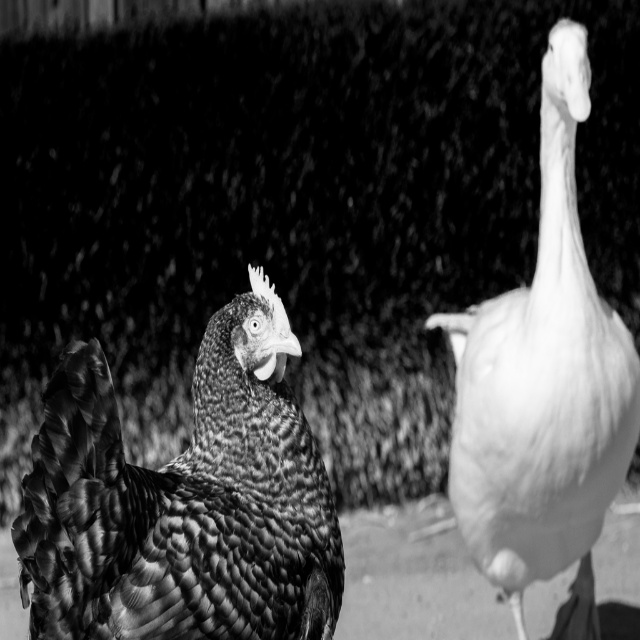Chicken: (421, 14, 640, 639), (5, 262, 344, 639)
